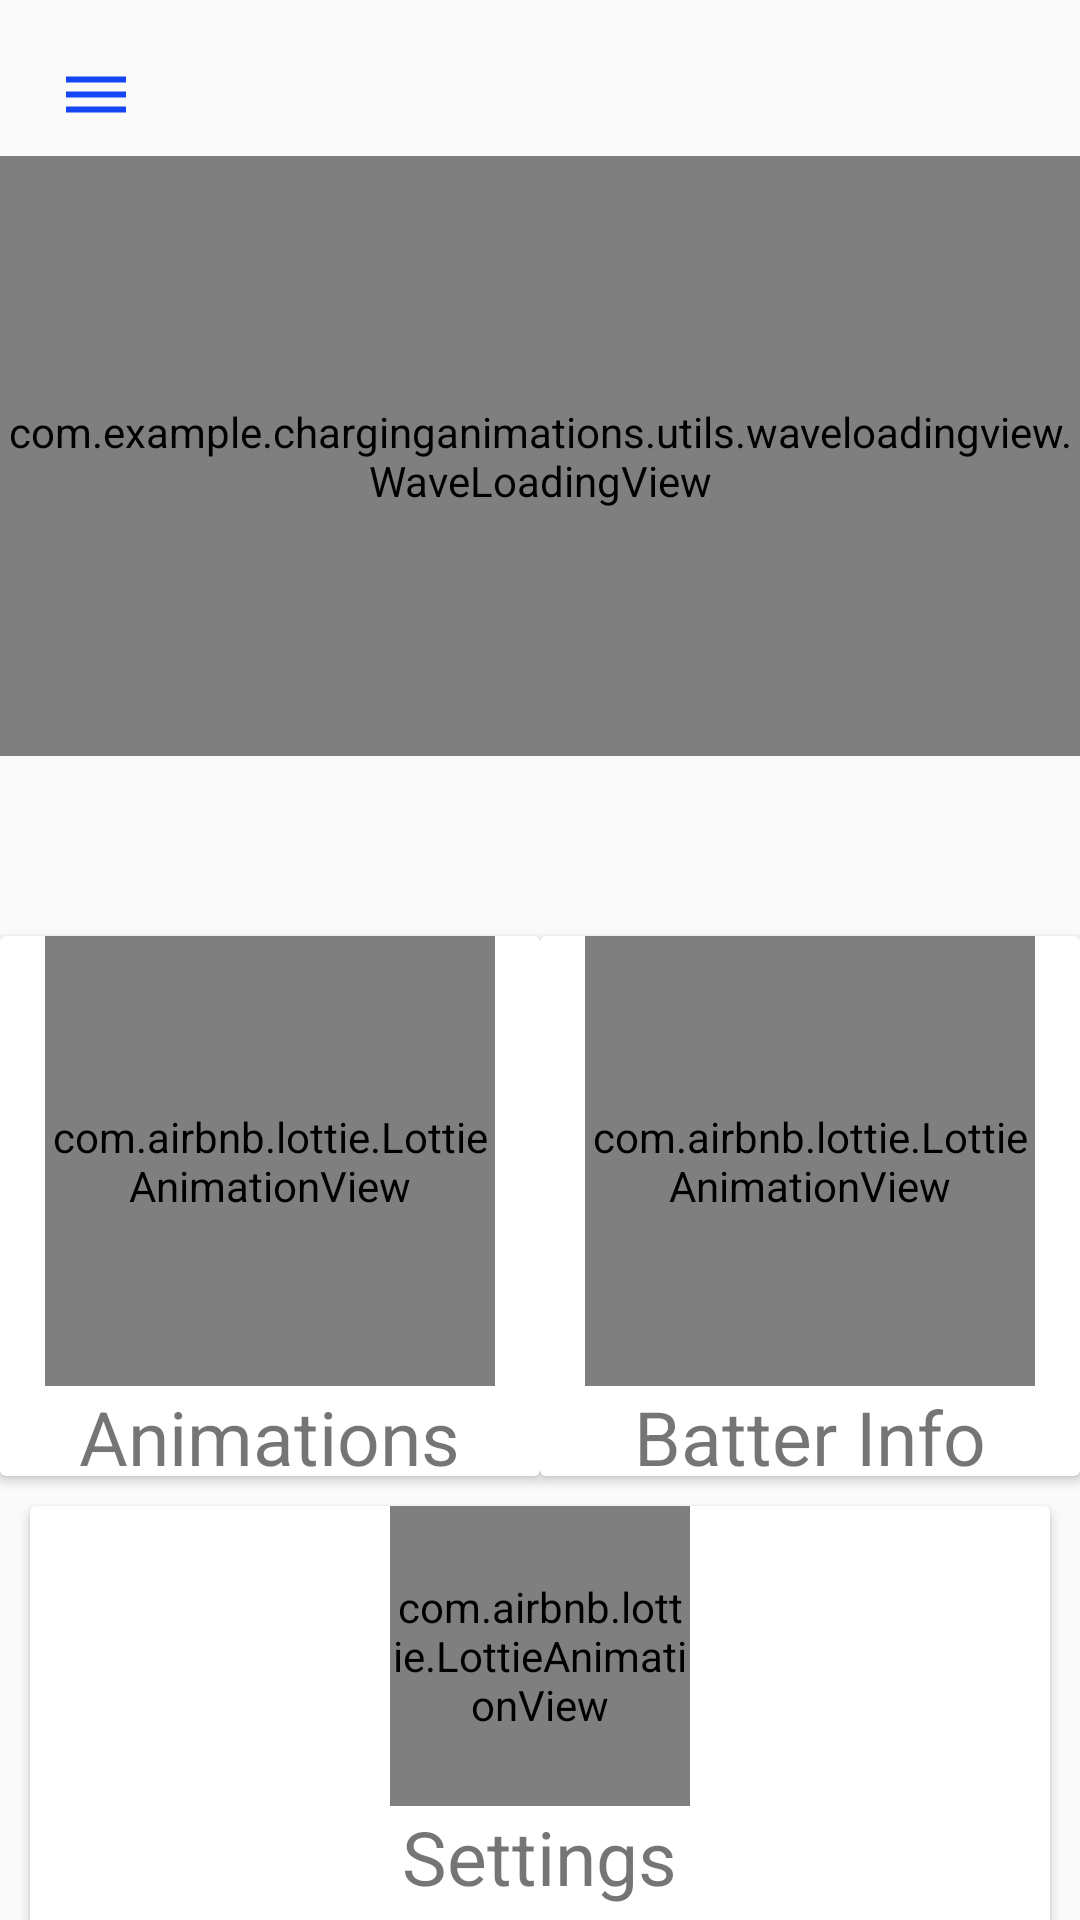

Screen size 1080 × 1920. Icon name, then its center in pixels as (x,y):
drawer open: (96,94)
